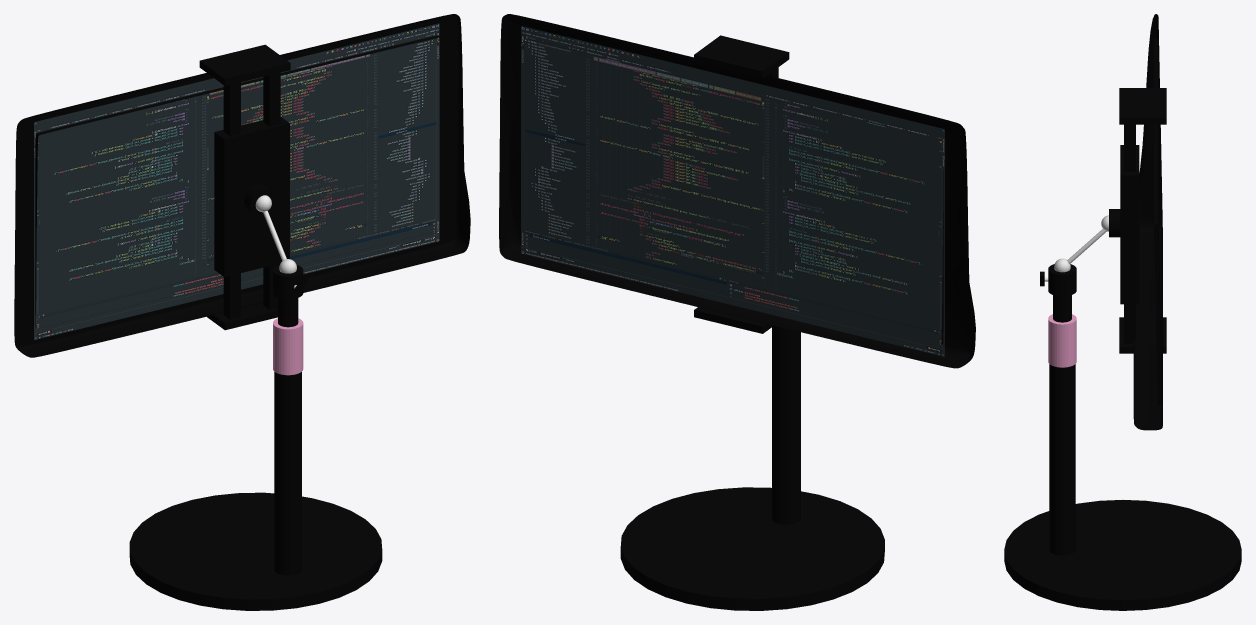
Rendered from monitorstandssafy.glb.
3 views of the same model, side by side, from view 1: azimuth 30°, elevation 25°; view 2: azimuth 150°, elevation 25°; view 3: azimuth 270°, elevation 25° (orthographic). The views are drawn at different scales.
Visible parts, largest first — view 1: Plane, Cylinder, Cube.007_2, Cube, Cylinder.001, Cube.006, Cylinder.002, Cube.005, Cube.001, Cube.002, Cube.003, Cylinder.004 (+1 smaller); view 2: Plane, Cylinder, Cube.007_2, Cylinder.001, Cube.006, Cube.005; view 3: Cylinder, Cube.007_2, Cylinder.001, Cube, Cube.006, Cylinder.002, Cube.005, Cylinder.004, Cube.001, Cylinder.003, Cube.004, Cylinder.006.
Part boxes in pixels (x1,y1,x2,y2): Plane: (34,23,439,340); Cylinder: (129,492,382,610); Cube.007_2: (14,14,470,357); Cube: (214,117,289,276); Cylinder.001: (274,372,301,575); Cube.006: (199,44,290,85); Cylinder.002: (273,318,303,375); Cube.005: (205,295,277,330); Cube.001: (263,72,280,126); Cube.002: (223,82,240,135); Cube.003: (223,273,240,319); Cylinder.004: (273,265,303,299); Plane: (521,26,944,356); Cylinder: (620,487,884,610); Cube.007_2: (499,14,975,368); Cylinder.001: (772,325,800,524); Cube.006: (694,35,789,78); Cube.005: (694,300,775,333); Cylinder: (1004,500,1241,610); Cube.007_2: (1133,14,1162,430); Cylinder.001: (1049,364,1075,555); Cube: (1120,145,1139,304); Cube.006: (1119,88,1166,124); Cylinder.002: (1048,314,1076,367); Cube.005: (1119,317,1166,353); Cylinder.004: (1048,264,1076,296); Cube.001: (1124,124,1135,171); Cylinder.003: (1053,295,1071,322); Cube.004: (1124,304,1135,343); Cylinder.006: (1109,209,1120,237).
Size of the model in its own units: 2.04 by 2.13 by 1.
6 materials, 1 textured.
